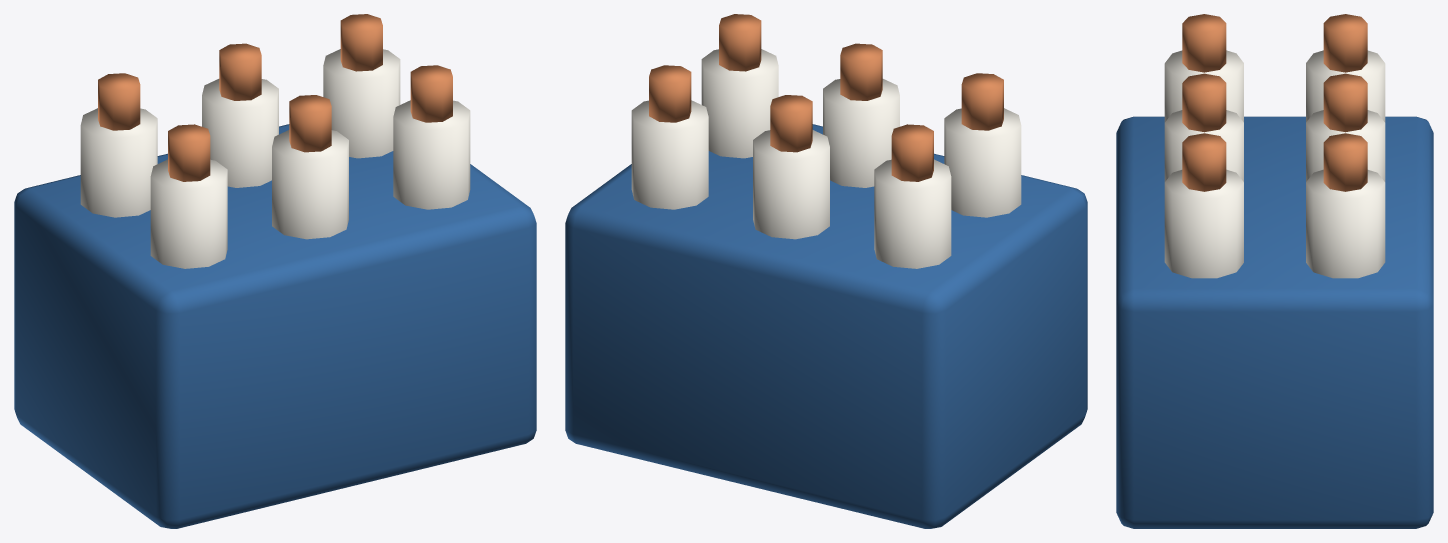
File: milk_crate.gltf
The picture shows the model from 3 angles, left to right: view 1: azimuth 30°, elevation 25°; view 2: azimuth 150°, elevation 25°; view 3: azimuth 270°, elevation 25°; orthographic projection.
Parts seen in each view (by area): view 1: milk_crate_mesh; view 2: milk_crate_mesh; view 3: milk_crate_mesh.
Boxes of the visible parts, left/top/right/bottom form: milk_crate_mesh: left=14, top=14, right=536, bottom=528; milk_crate_mesh: left=565, top=14, right=1087, bottom=528; milk_crate_mesh: left=1116, top=14, right=1433, bottom=528.
Size of the model in its own units: 0.5 by 0.45 by 0.36.
